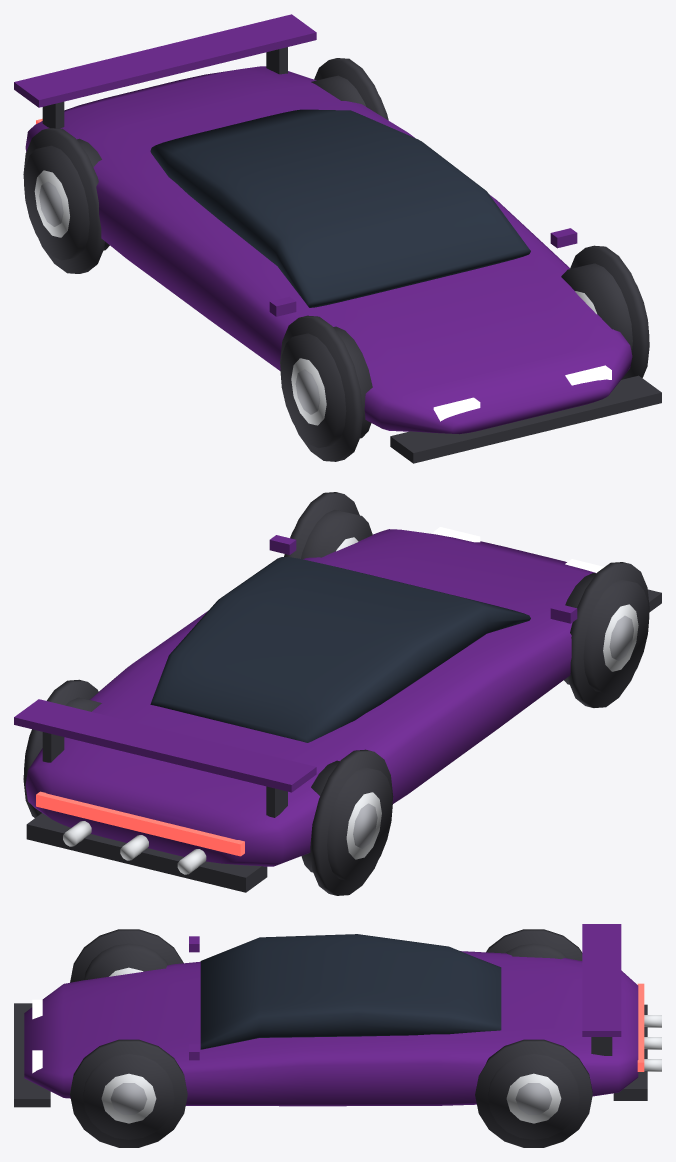
File: car-spectre.glb
The picture shows the model from 3 angles, top to bottom: view 1: azimuth 30°, elevation 25°; view 2: azimuth 150°, elevation 25°; view 3: azimuth 270°, elevation 25°; orthographic projection. The views are drawn at different scales.
Visible parts, largest first — view 1: body, wheel-front-left, wheel-back-left, wheel-front-right, wheel-back-right; view 2: body, wheel-back-left, wheel-front-left, wheel-front-right; view 3: body, wheel-back-right, wheel-front-right, wheel-front-left, wheel-back-left.
Part boxes in pixels (box(x1,y1,x2,y2)): body: box(14, 14, 661, 463); wheel-front-left: box(280, 326, 372, 448); wheel-back-left: box(24, 138, 109, 260); wheel-front-right: box(561, 263, 649, 352); wheel-back-right: box(311, 75, 388, 120); body: box(14, 492, 661, 895); wheel-back-left: box(301, 760, 392, 882); wheel-front-left: box(564, 573, 649, 694); wheel-front-right: box(284, 509, 372, 559); body: box(14, 924, 661, 1147); wheel-back-right: box(488, 1054, 579, 1139); wheel-front-right: box(83, 1054, 174, 1139); wheel-front-left: box(84, 943, 167, 980); wheel-back-left: box(505, 943, 568, 959).
Size of the model in its own units: 2.2 by 1.03 by 4.96.
